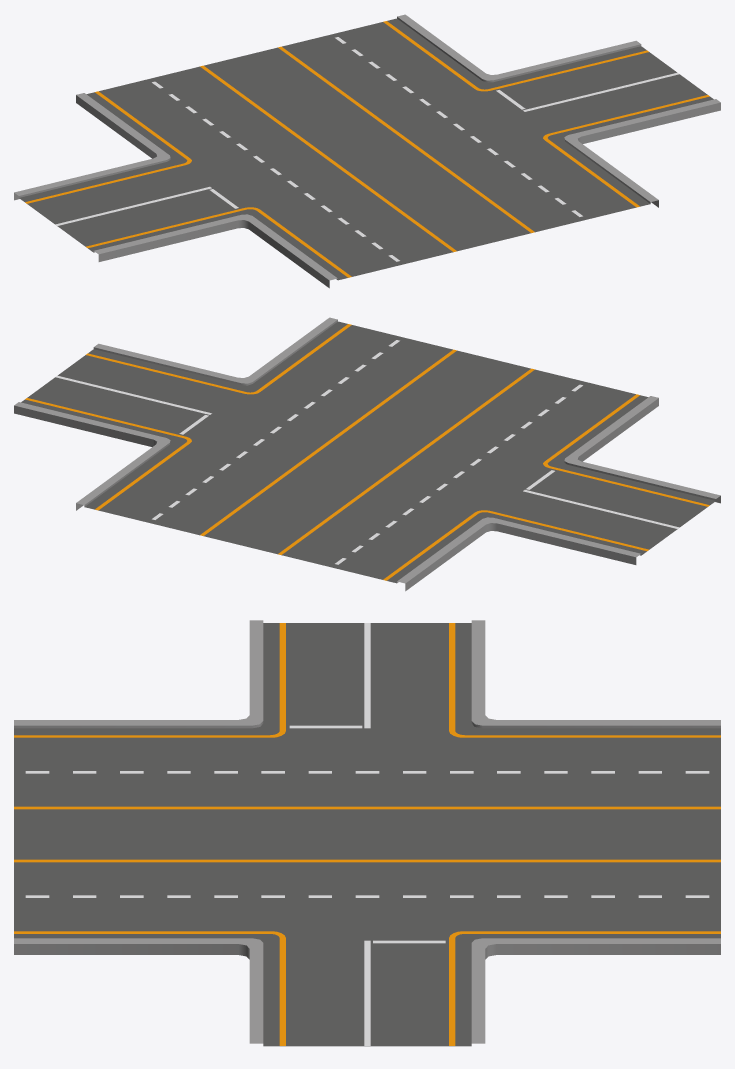
Rendered from Road_B_2L_1_5.glb.
3 views of the same model, one above another, from view 1: azimuth 30°, elevation 25°; view 2: azimuth 150°, elevation 25°; view 3: azimuth 270°, elevation 25° (orthographic). The views are drawn at different scales.
Visible parts, largest first — view 1: Road_B_2L_1_5; view 2: Road_B_2L_1_5; view 3: Road_B_2L_1_5.
Boxes of the visible parts, <box> form: Road_B_2L_1_5: <box>14,14,720,288</box>; Road_B_2L_1_5: <box>14,317,720,591</box>; Road_B_2L_1_5: <box>14,620,720,1046</box>.
Bounding box in the file's own units: 34 × 0.4148 × 24.
Materials: 1 (1 with a texture image).
